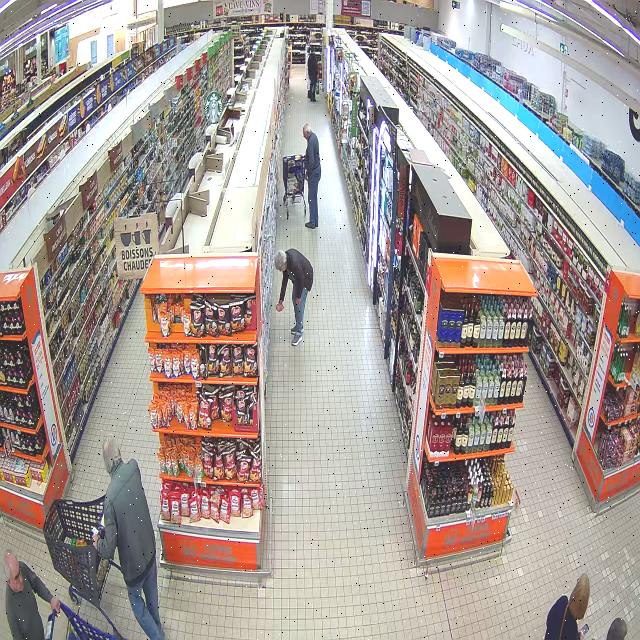article: (276, 303, 283, 312)
hands: (50, 597, 59, 613), (93, 533, 100, 549), (295, 298, 301, 306)
person: (93, 434, 164, 640), (4, 549, 60, 640), (274, 248, 314, 346), (544, 574, 590, 640), (303, 123, 321, 229)
